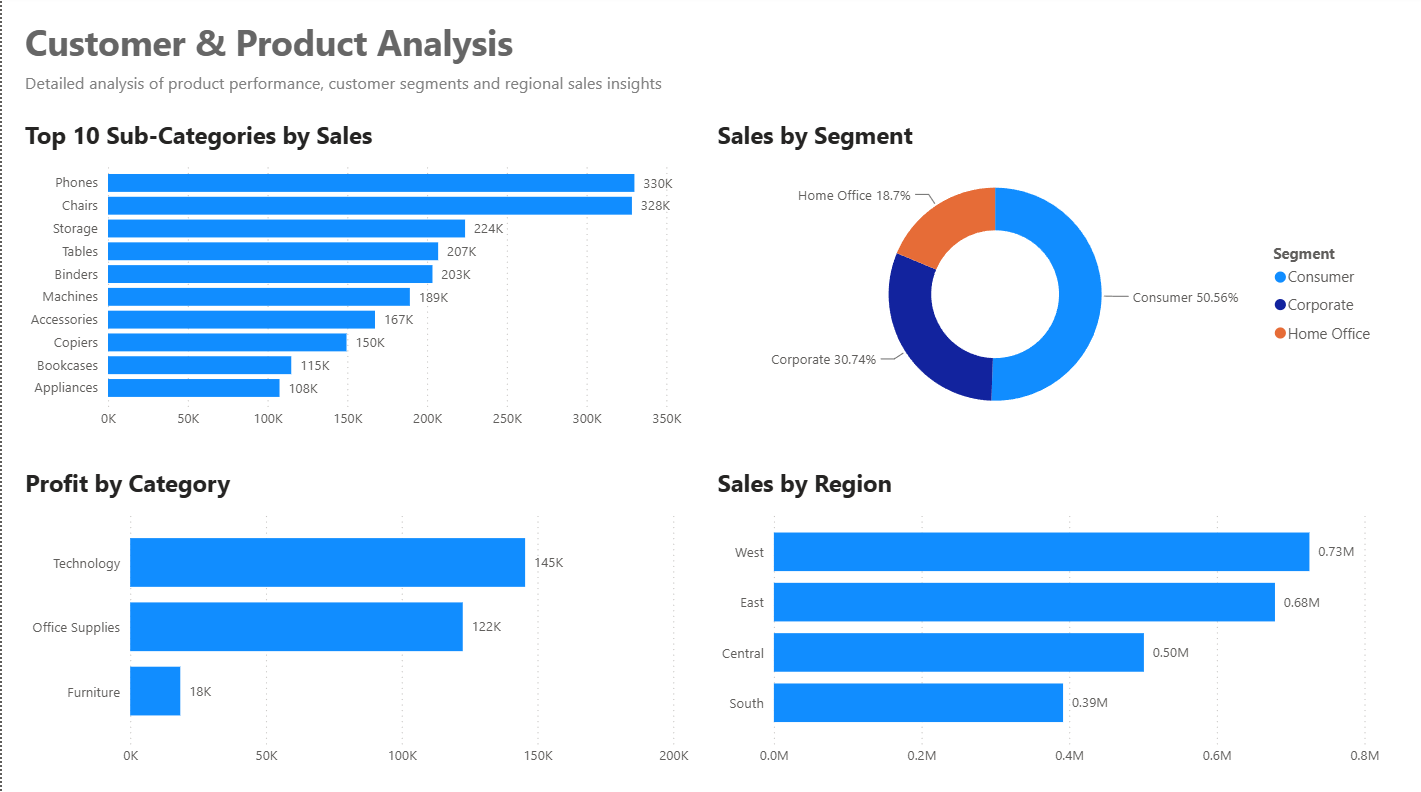

Layout of this report page (visuals, bound fields, positions):
{"tool":"powerbi","page":{"name":"Customer & Product Analysis","canvas":[1280,720],"ordinal":1},"visuals":[{"type":"donutChart","title":"Sales by Segment","fields":{"Category":["Retails Order Full Dataset.Segment"],"Y":["Sum(Retails Order Full Dataset.Sales)"]},"box":[640.7,164,608.1,288.4],"z":0},{"type":"clusteredBarChart","title":"Top 10 Sub-Categories by Sales","fields":{"Category":["Retails Order Full Dataset.Sub-Category"],"Y":["Sum(Retails Order Full Dataset.Sales)"]},"box":[16.3,164,608.1,288.4],"z":1000},{"type":"clusteredBarChart","title":"Profit by Category","fields":{"Category":["Retails Order Full Dataset.Category"],"Y":["Sum(Retails Order Full Dataset.Profit)"]},"box":[16.3,464,608.1,240.7],"z":2000},{"type":"clusteredBarChart","title":"Sales by Region","fields":{"Category":["Retails Order Full Dataset.Region"],"Y":["Sum(Retails Order Full Dataset.Sales)"]},"box":[640.7,464,607,240.7],"z":3000},{"type":"textbox","box":[16,16,480,64],"z":4000},{"type":"textbox","box":[16,64,592,32],"z":5000},{"type":"slicer","fields":{"Values":["Retails Order Full Dataset.Region"]},"box":[95.3,96.5,144.2,67.4],"z":5001},{"type":"slicer","fields":{"Values":["Retails Order Full Dataset.Category"]},"box":[410.5,96.5,148.8,67.4],"z":5002},{"type":"slicer","fields":{"Values":["Retails Order Full Dataset.Segment"]},"box":[729.1,96.5,146.5,67.4],"z":5003},{"type":"slicer","fields":{"Values":["Calendar Table.Year"]},"box":[1046.5,96.5,134.9,67.4],"z":5004}]}

Visuals, with their boxes in screenshot pixels (x1, y1, x2, y2), scaled from the page's 1280x720 canvas onto the 1421x792 screenshot:
"Sales by Segment" donutChart: x1=711, y1=180, x2=1386, y2=498
"Top 10 Sub-Categories by Sales" clusteredBarChart: x1=18, y1=180, x2=693, y2=498
"Profit by Category" clusteredBarChart: x1=18, y1=510, x2=693, y2=775
"Sales by Region" clusteredBarChart: x1=711, y1=510, x2=1385, y2=775
textbox: x1=18, y1=18, x2=551, y2=88
textbox: x1=18, y1=70, x2=675, y2=106
slicer - Retails Order Full Dataset.Region: x1=106, y1=106, x2=266, y2=180
slicer - Retails Order Full Dataset.Category: x1=456, y1=106, x2=621, y2=180
slicer - Retails Order Full Dataset.Segment: x1=809, y1=106, x2=972, y2=180
slicer - Calendar Table.Year: x1=1162, y1=106, x2=1312, y2=180
